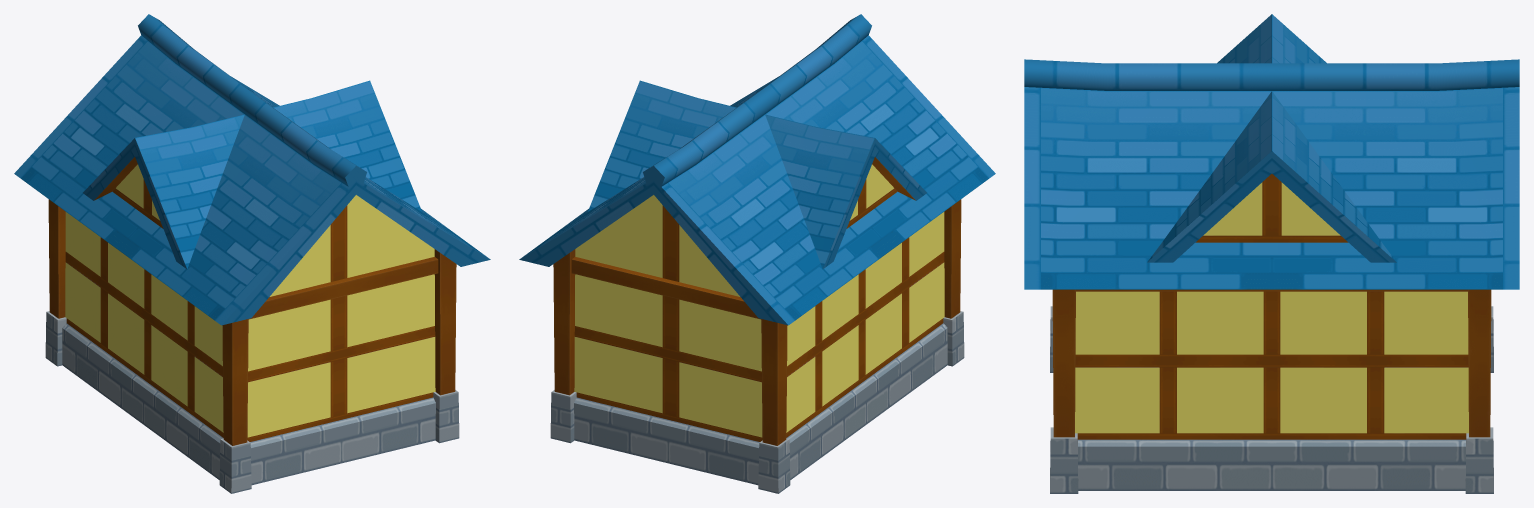
File: BLD0310008.fbx
3 views of the same model, side by side, from view 1: azimuth 30°, elevation 25°; view 2: azimuth 150°, elevation 25°; view 3: azimuth 270°, elevation 25° (orthographic). The views are drawn at different scales.
Visible parts, largest first — view 1: smBLD0310008; view 2: smBLD0310008; view 3: smBLD0310008.
Part boxes in pixels (bbox=[...]): smBLD0310008: bbox=[14, 14, 490, 493]; smBLD0310008: bbox=[519, 14, 995, 493]; smBLD0310008: bbox=[1024, 14, 1519, 493].
Bounding box in the file's own units: 129 × 141 × 172.
1 material, 1 textured.
